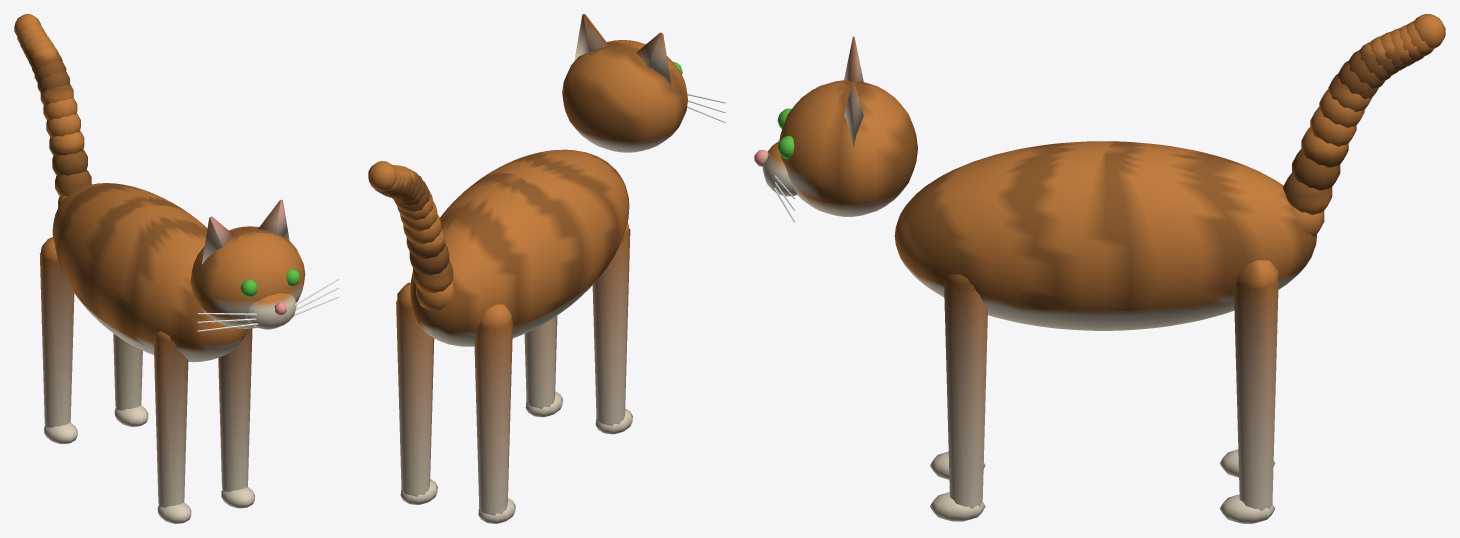
File: Cat.glb
3 views of the same model, side by side, from view 1: azimuth 30°, elevation 25°; view 2: azimuth 150°, elevation 25°; view 3: azimuth 270°, elevation 25° (orthographic). The views are drawn at different scales.
Visible parts, largest first — view 1: CatBody, CatHead, Tail, LegBL, LegFL, LegFR, LegBR, CatWhiskers, CatEyes; view 2: CatBody, CatHead, LegBL, LegBR, Tail, LegFL, LegFR; view 3: CatBody, CatHead, Tail, LegBR, LegFR.
Part boxes in pixels (x1,y1,x2,y2): CatBody: (52,183,248,362); CatHead: (190,200,305,329); Tail: (14,14,91,207); LegBL: (39,237,77,444); LegFL: (153,331,191,523); LegFR: (218,328,254,508); LegBR: (113,333,148,426); CatWhiskers: (197,278,339,331); CatEyes: (240,269,300,315); CatBody: (410,149,629,346); CatHead: (562,14,687,152); LegBL: (474,304,515,523); LegBR: (396,282,437,504); Tail: (368,161,453,310); LegFL: (592,222,632,434); LegFR: (524,316,562,417); CatBody: (894,141,1316,330); CatHead: (762,36,917,216); Tail: (1283,14,1445,236); LegBR: (1219,260,1278,523); LegFR: (930,274,987,521).
Bounding box in the file's own units: 0.2004 × 0.4967 × 0.6442.
